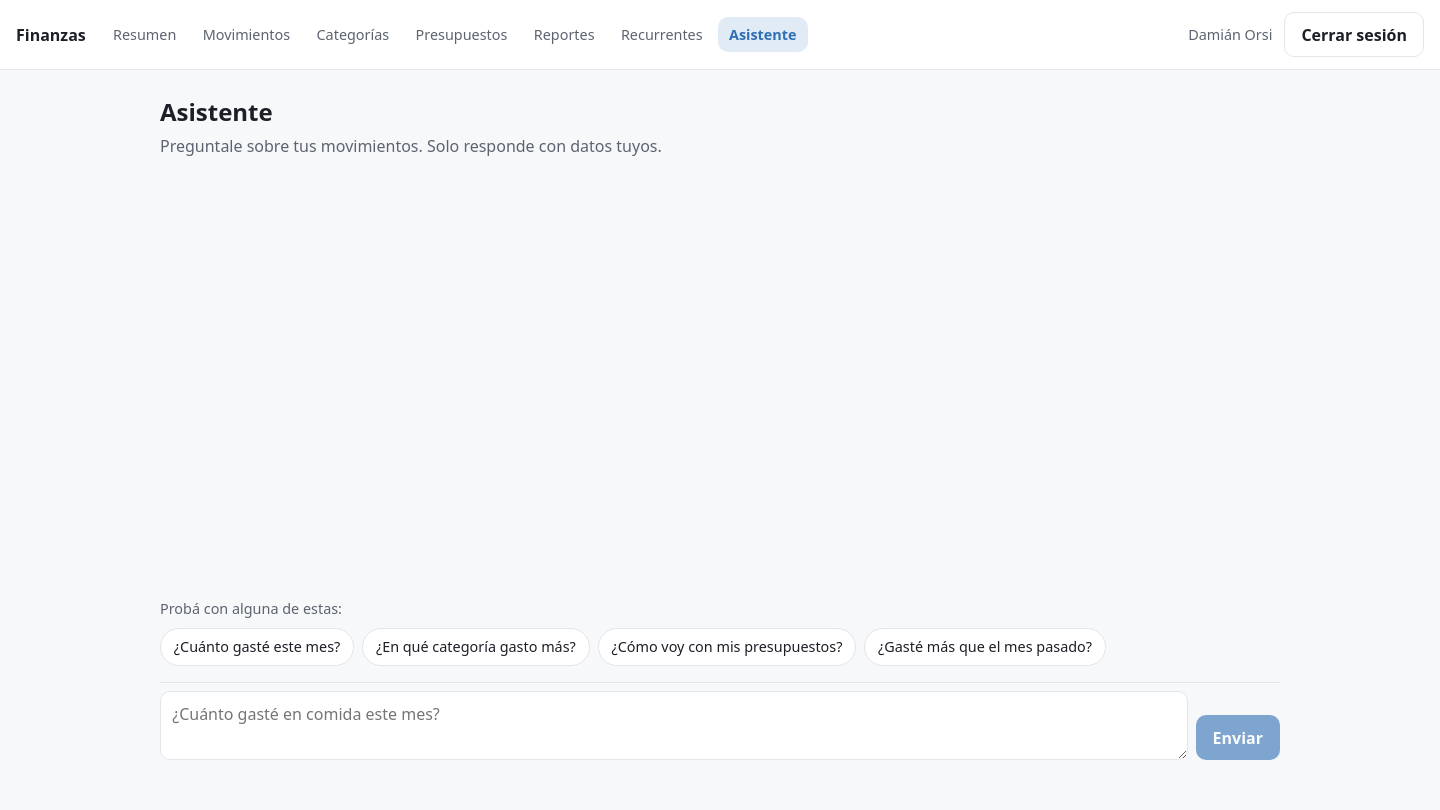
Test: ChatPage › no deja mandar dos veces mientras hay una consulta en curso
The image size is (1440, 810).
Type "hola" into the text box named "tu consulta" at (674, 726), box left=160, top=691, right=1188, bottom=760
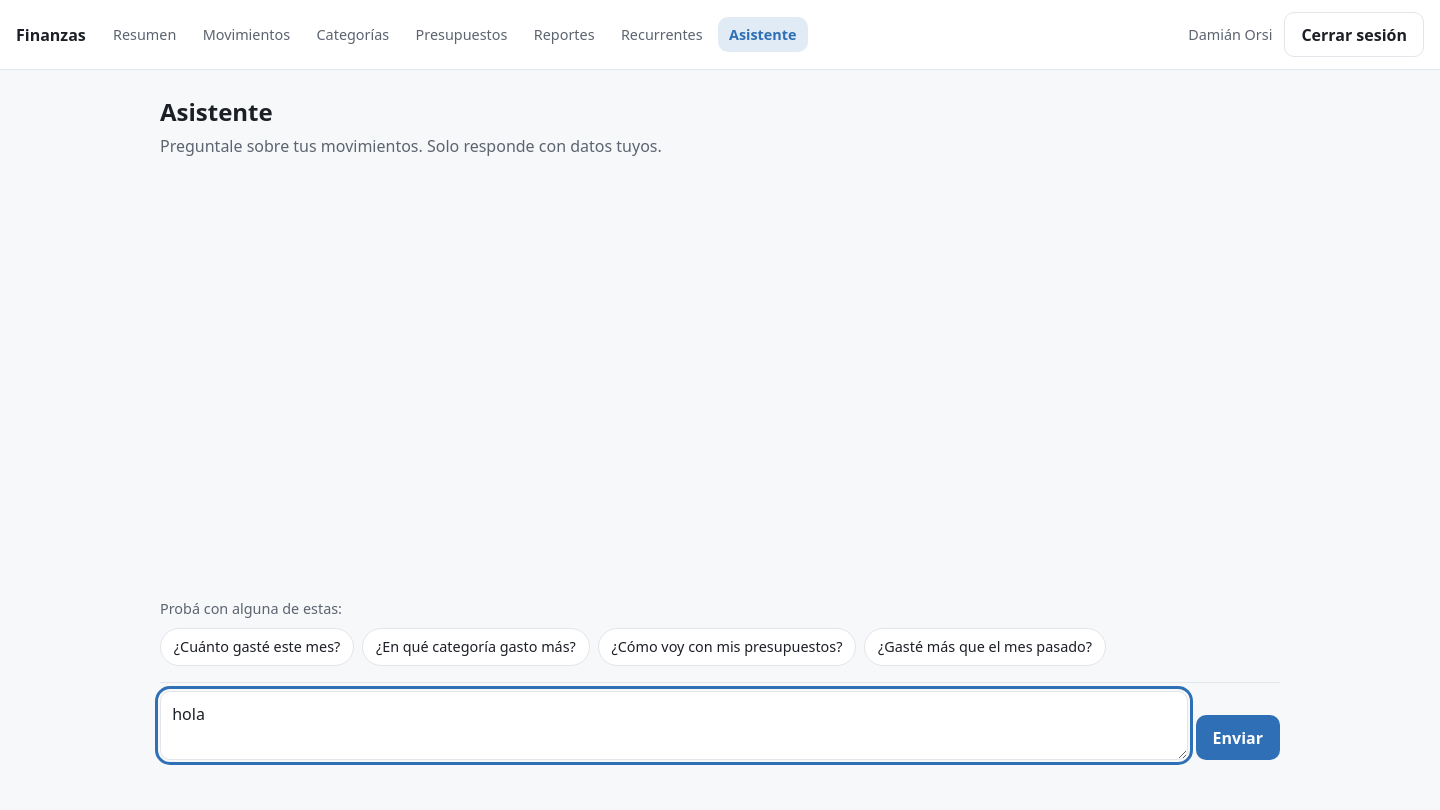
Click the button "Enviar" at (1238, 738), box left=1196, top=715, right=1280, bottom=760
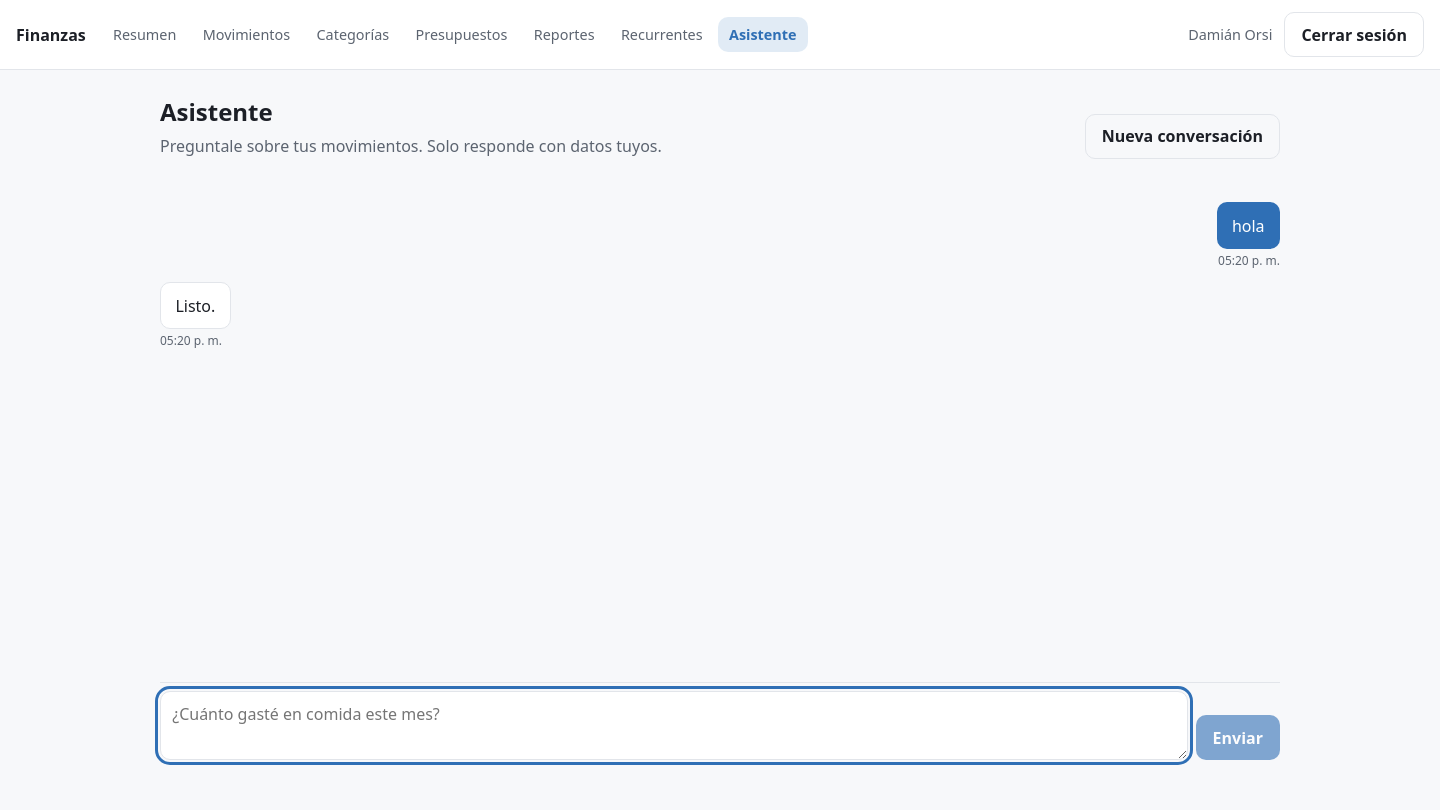
Expected: the button named "consultando" is disabled, left=1196, top=715, right=1280, bottom=760
Expected: the text "Listo." is shown, left=175, top=294, right=215, bottom=318
